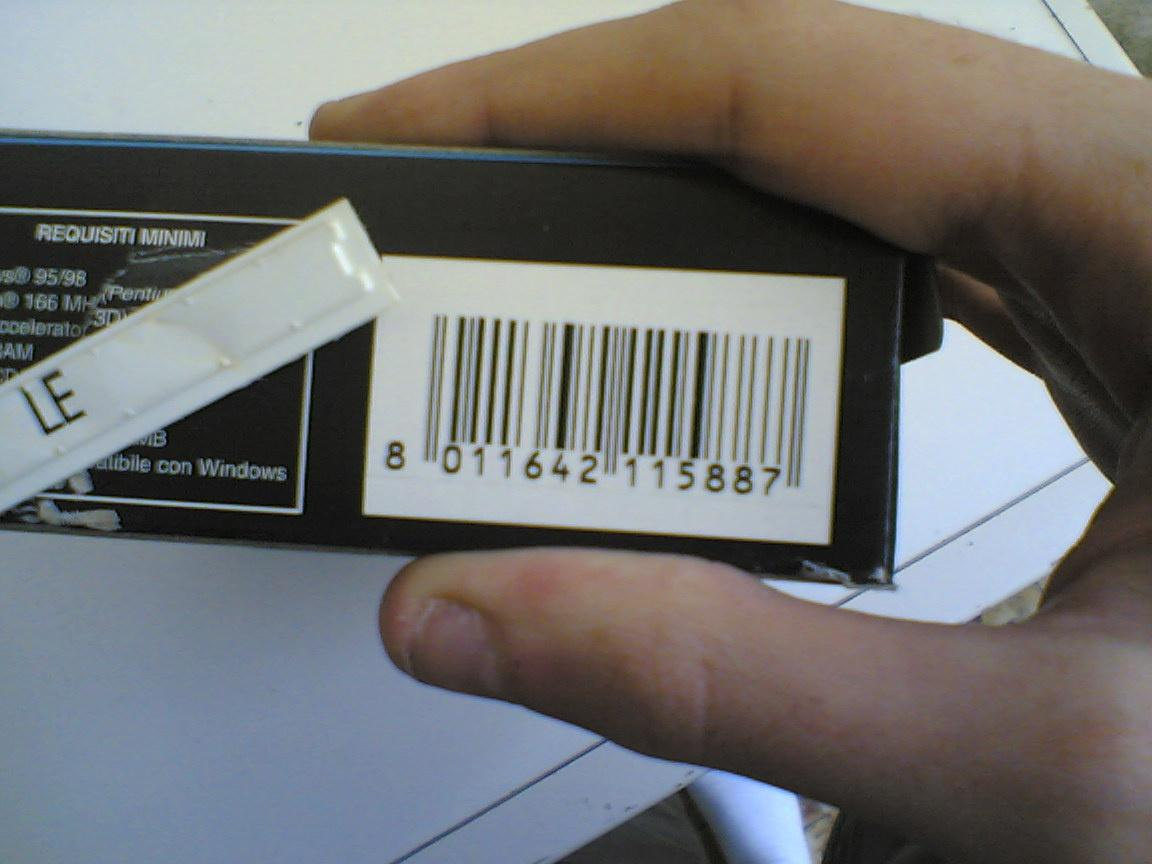Barcode: (364, 247, 847, 546)
